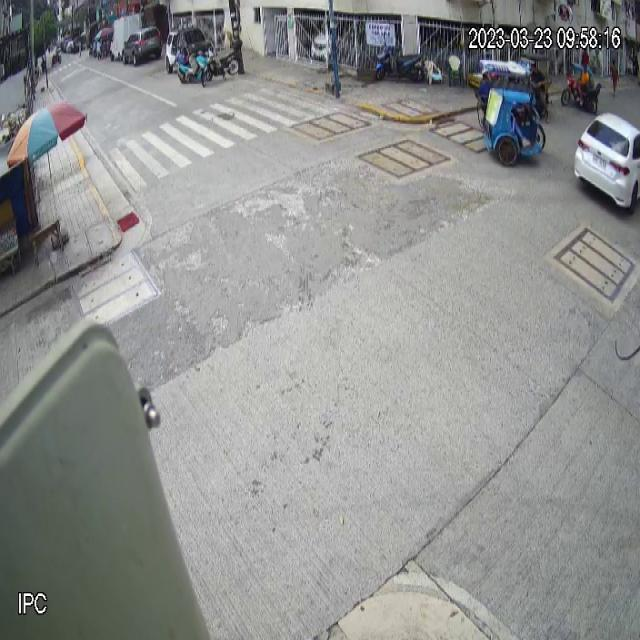Car: (573, 109, 640, 216)
Tricycle: (474, 60, 547, 167)
